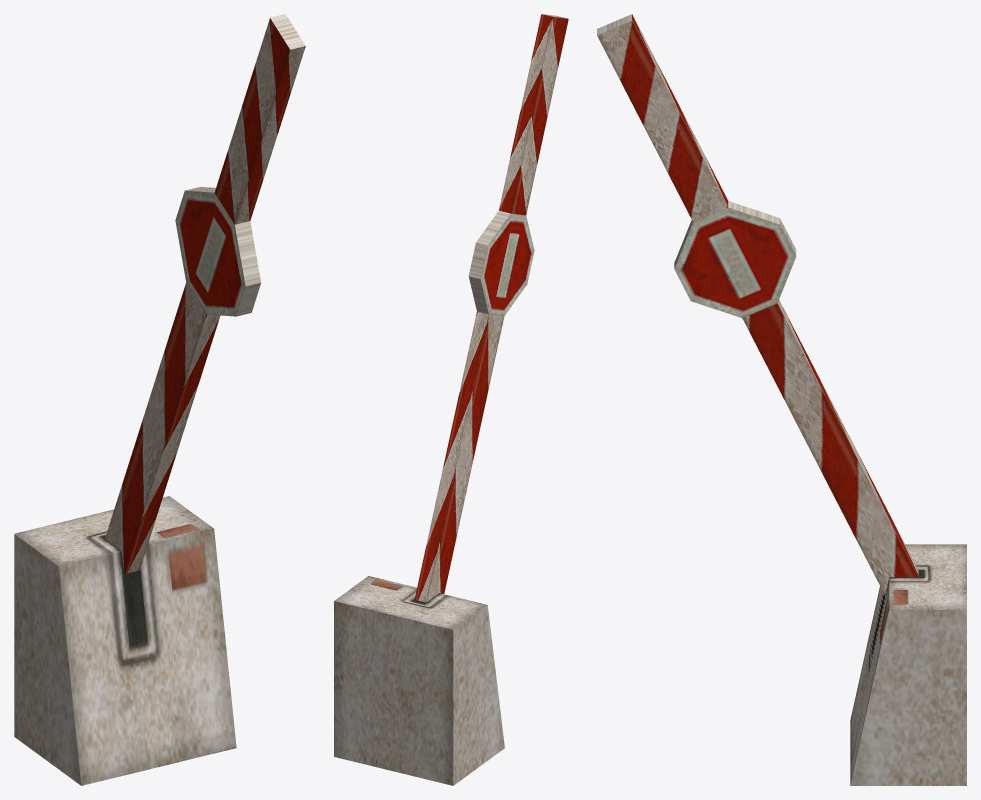
Rendered from RoadBarrier_M2.glb.
The picture shows the model from 3 angles, left to right: view 1: azimuth 30°, elevation 25°; view 2: azimuth 150°, elevation 25°; view 3: azimuth 270°, elevation 25°; orthographic projection. The views are drawn at different scales.
Parts seen in each view (by area): view 1: ROADBARRIER_M2; view 2: ROADBARRIER_M2; view 3: ROADBARRIER_M2.
Part boxes in pixels (x1,y1,x2,y2): ROADBARRIER_M2: [14, 14, 305, 785]; ROADBARRIER_M2: [334, 14, 568, 785]; ROADBARRIER_M2: [597, 14, 966, 785].
Size of the model in its own units: 1 by 5.2 by 2.38.
Materials: 1 (1 with a texture image).
